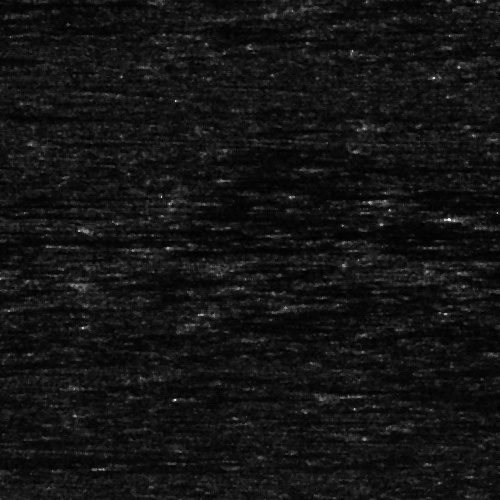object: (131, 242, 194, 253), (322, 427, 395, 436), (310, 165, 363, 170), (0, 449, 5, 460)
shadow: (0, 449, 218, 460), (162, 242, 336, 253), (0, 0, 133, 7), (359, 427, 442, 436), (337, 165, 425, 170), (0, 225, 60, 230)
